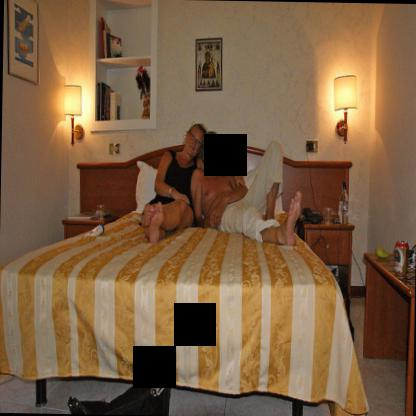handbag: (66, 373, 172, 413)
